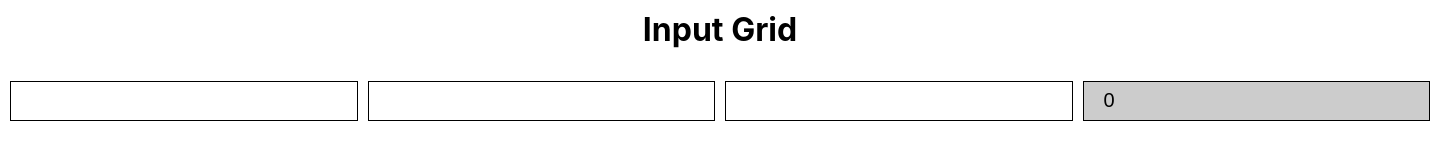
Scenario: Sums bigger numbers and show correctly
The image size is (1440, 160).
Type "123456" into the field named "first-input" at (184, 101), box 10,81 -> 358,121
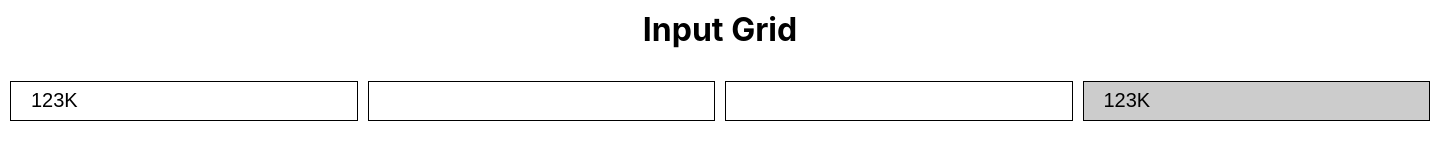
Type "723456" into the field named "second-input" at (541, 101), box 368,81 -> 715,121
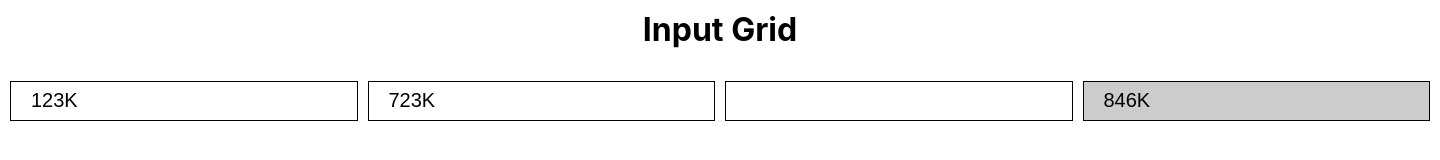
Type "423456" into the field named "third-input" at (899, 101), box 725,81 -> 1072,121
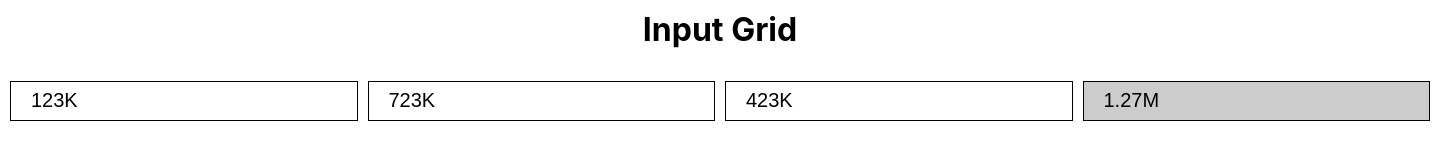
expect the field named "results-input" holds "1.27M": met, box 1082,81 -> 1430,121
